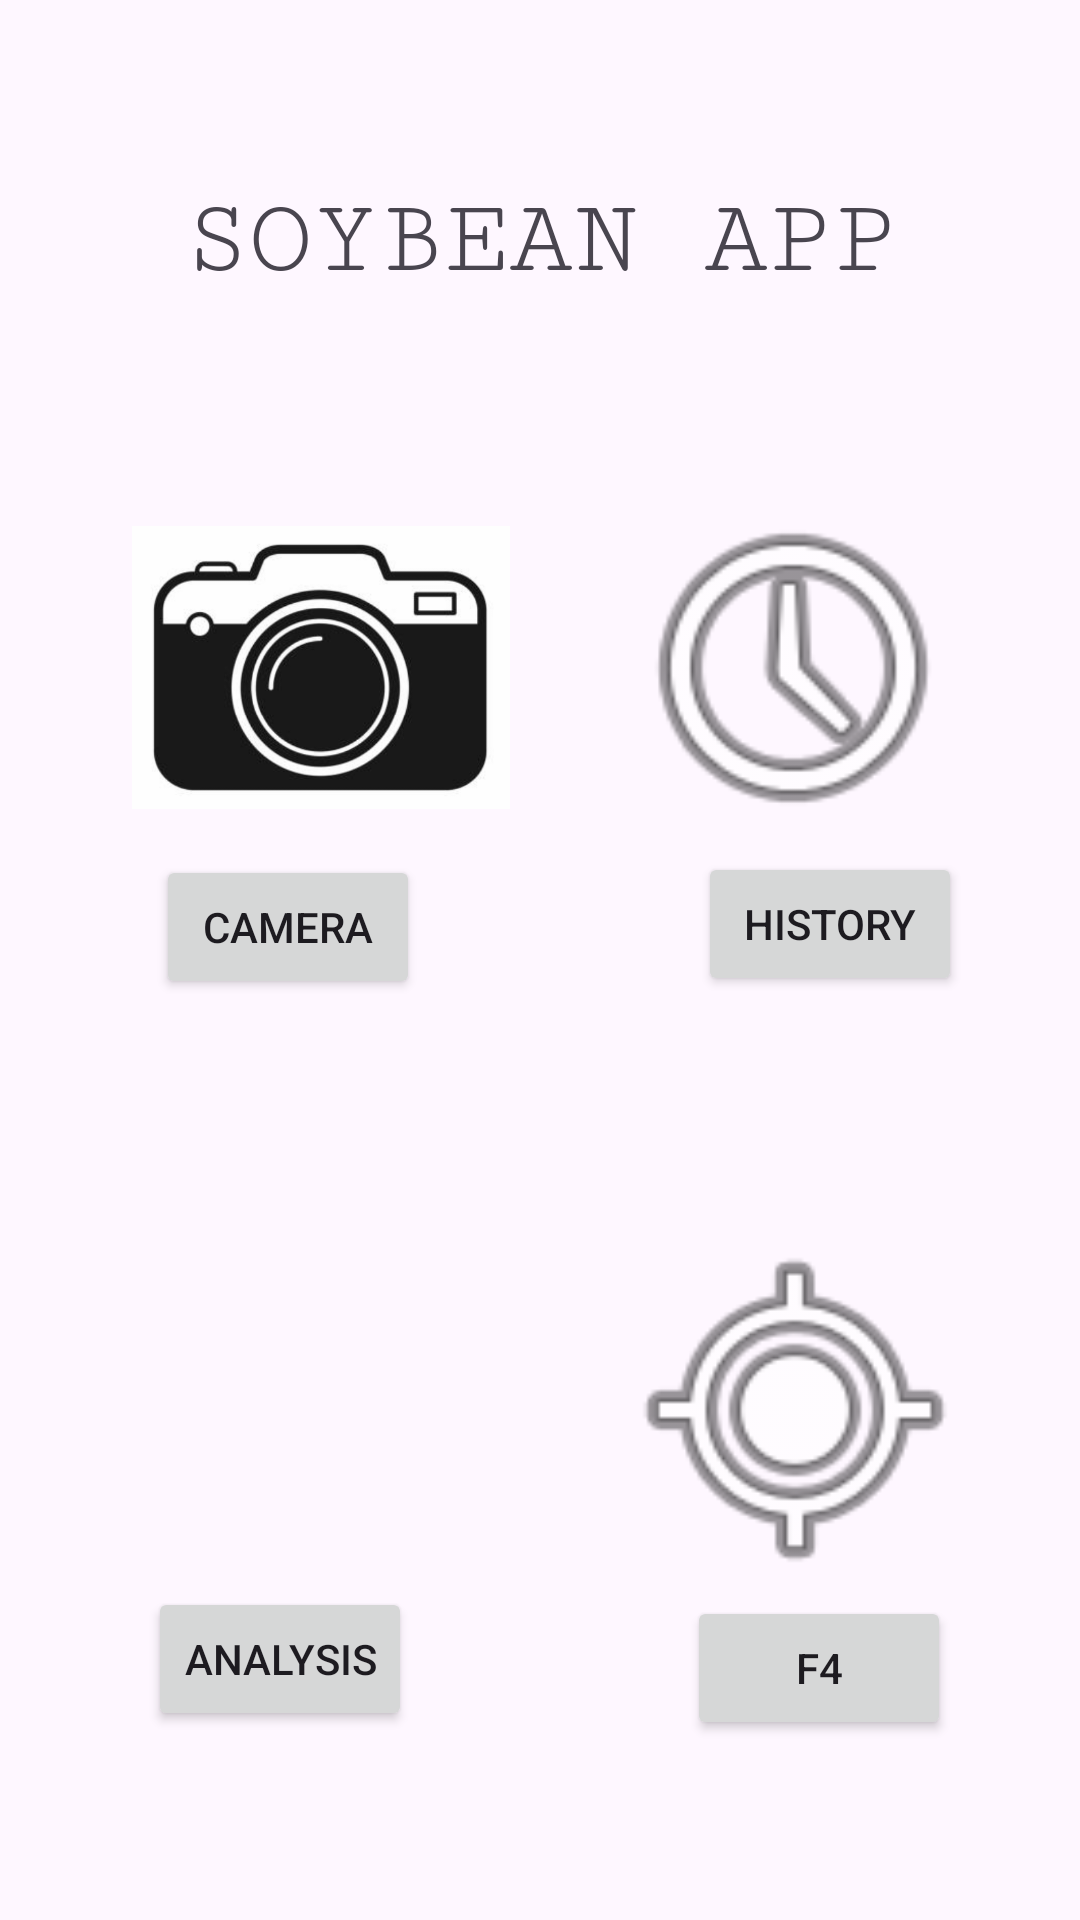

Icon click points for this 1080 x 1920 phone screenshot, format (x=x, y=y):
mylocation: (x=795, y=1410)
